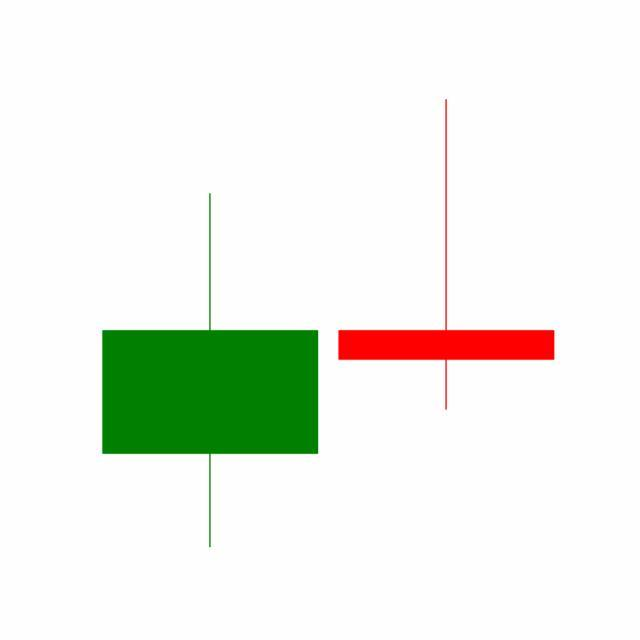Gravestone Doji: (328, 96, 566, 414)
